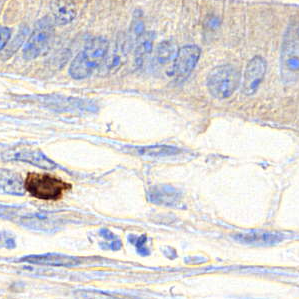Lymphocyte: (22, 170, 74, 203)
